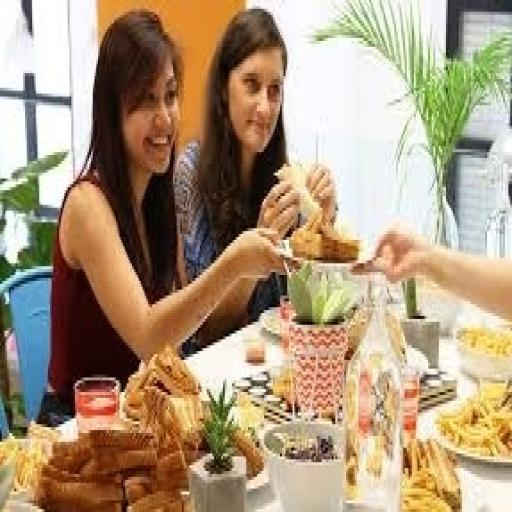eating: (39, 6, 291, 418)
